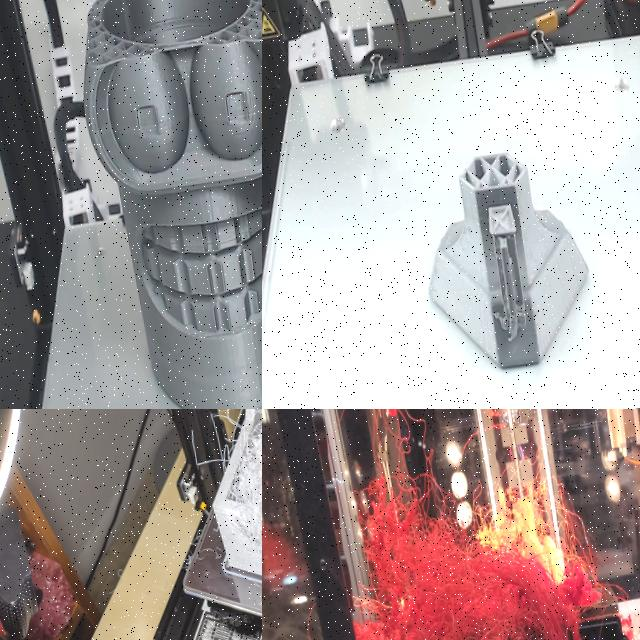spaghetti: (343, 409, 623, 640), (166, 409, 262, 640)
